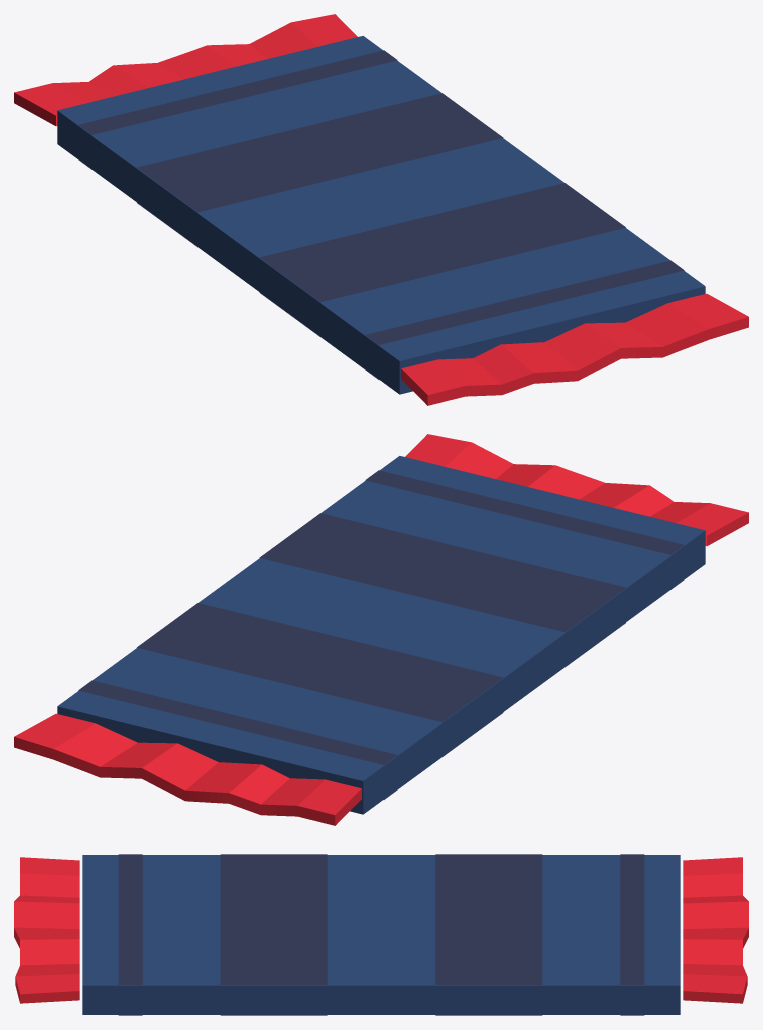
The model's file is SM_chocolate_01.fbx.
The picture shows the model from 3 angles, top to bottom: view 1: azimuth 30°, elevation 25°; view 2: azimuth 150°, elevation 25°; view 3: azimuth 270°, elevation 25°; orthographic projection. The views are drawn at different scales.
Visible parts, largest first — view 1: chocolate_01; view 2: chocolate_01; view 3: chocolate_01.
Part boxes in pixels (x1,y1,x2,y2): chocolate_01: (14,14,748,405); chocolate_01: (14,434,748,825); chocolate_01: (14,854,748,1015).
Size of the model in its own units: 24.69 by 2.57 by 55.93.
